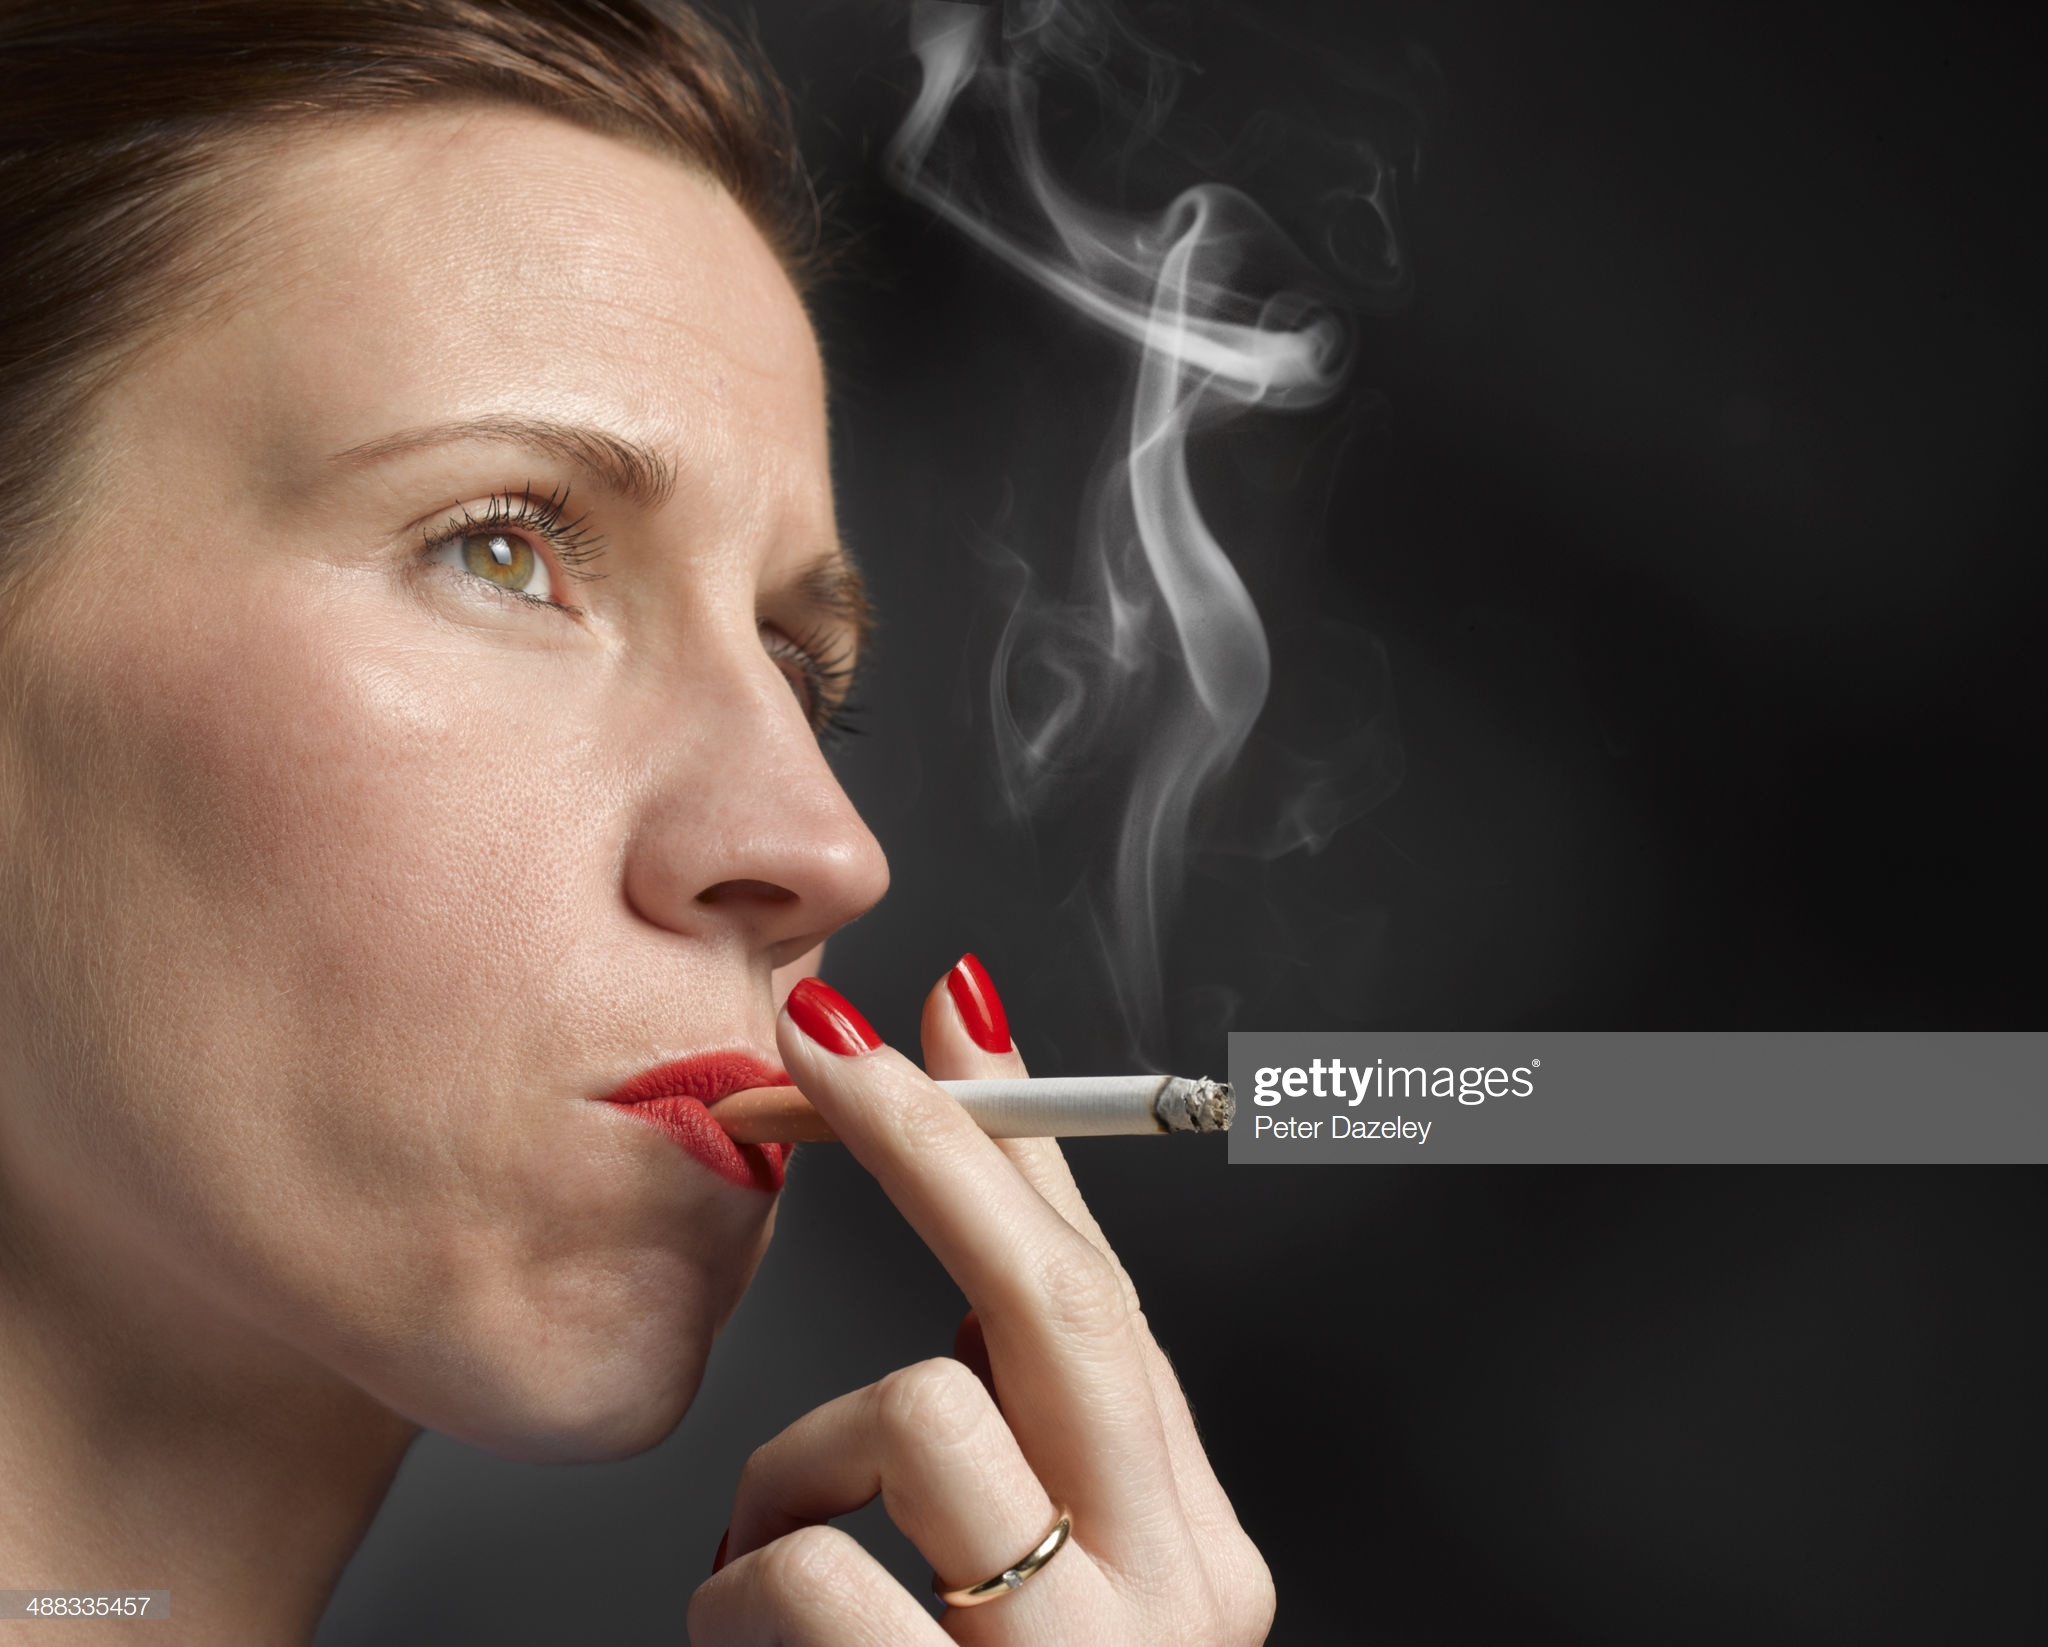sigaretta: (709, 1069, 1240, 1128)
